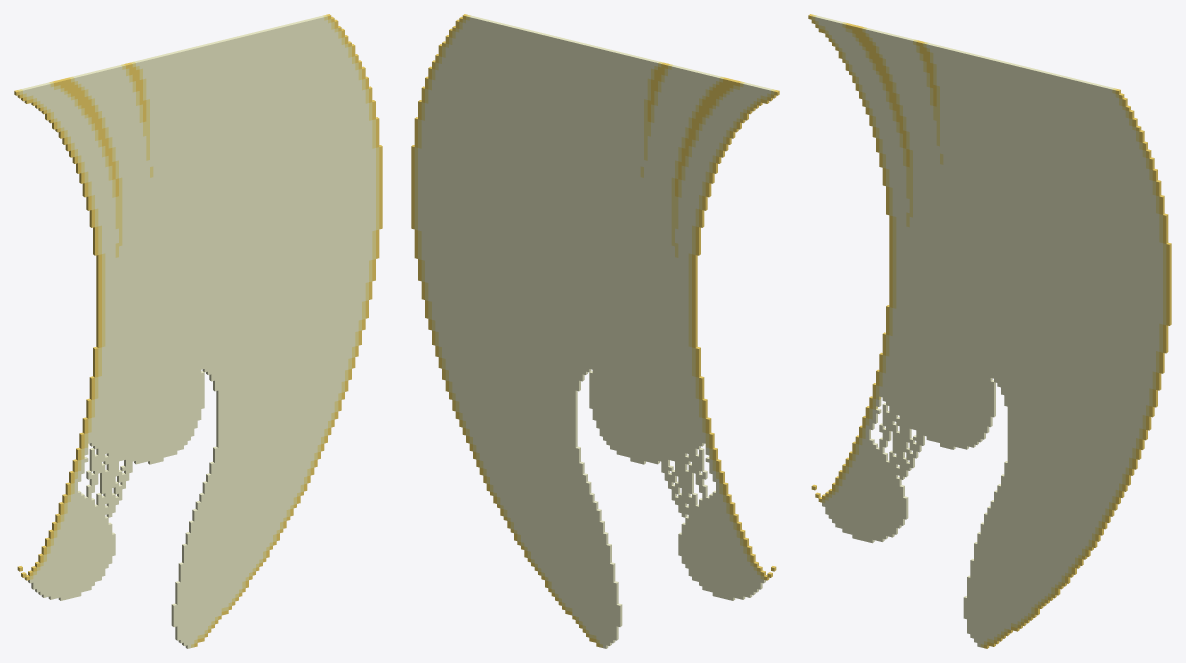
The model's file is Fight_741_2_06_fx.obj.
The picture shows the model from 3 angles, left to right: view 1: azimuth 30°, elevation 25°; view 2: azimuth 150°, elevation 25°; view 3: azimuth 330°, elevation 25°; orthographic projection.
Bounding box in the file's own units: 10.7 × 16.7 × 0.1.
